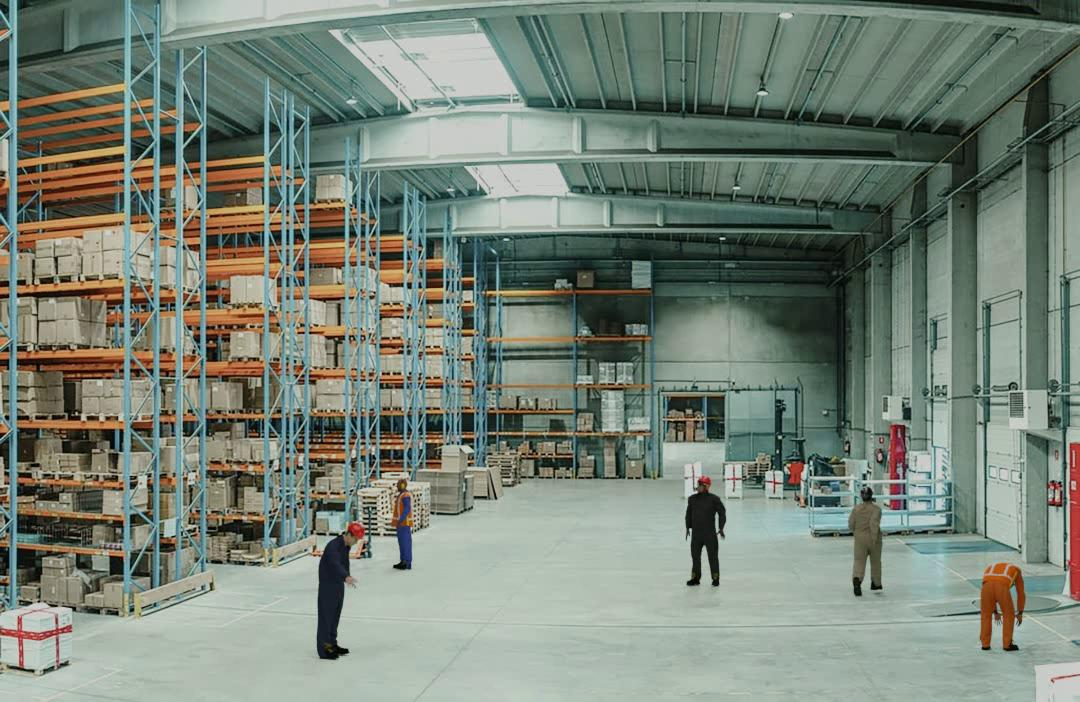Helmet: (348, 523, 367, 536), (855, 487, 876, 496), (698, 475, 711, 484)
Jacket: (982, 555, 1017, 583), (394, 494, 413, 526)
Shoes: (317, 649, 339, 660), (851, 577, 863, 596), (870, 579, 885, 592), (1005, 643, 1022, 651), (337, 645, 350, 655), (685, 578, 701, 586), (393, 563, 411, 570), (981, 642, 993, 651), (711, 576, 720, 586)
